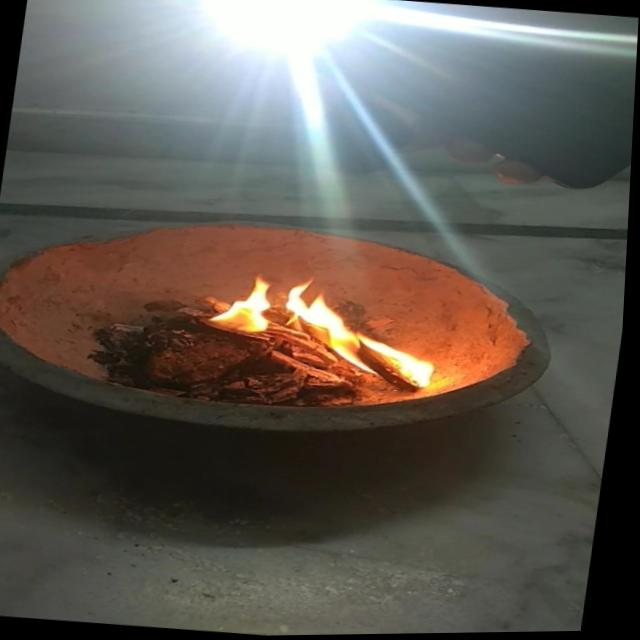fire: (275, 273, 388, 383), (341, 320, 451, 396), (195, 269, 282, 346)
